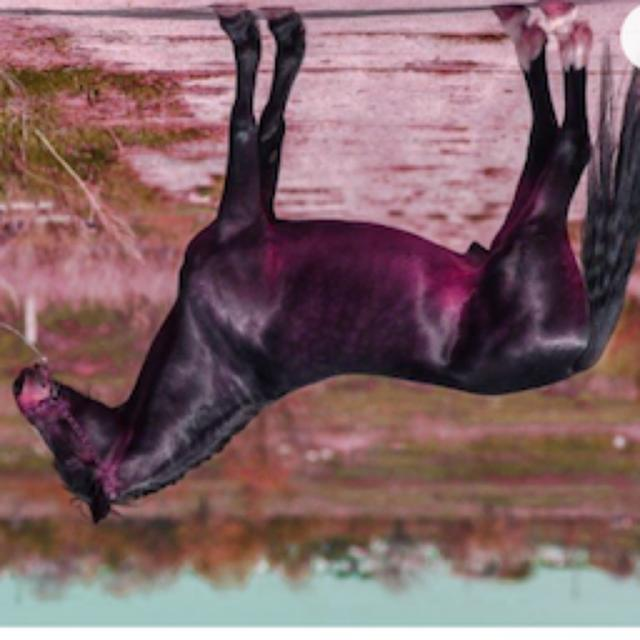Horse: (2, 2, 638, 530)
